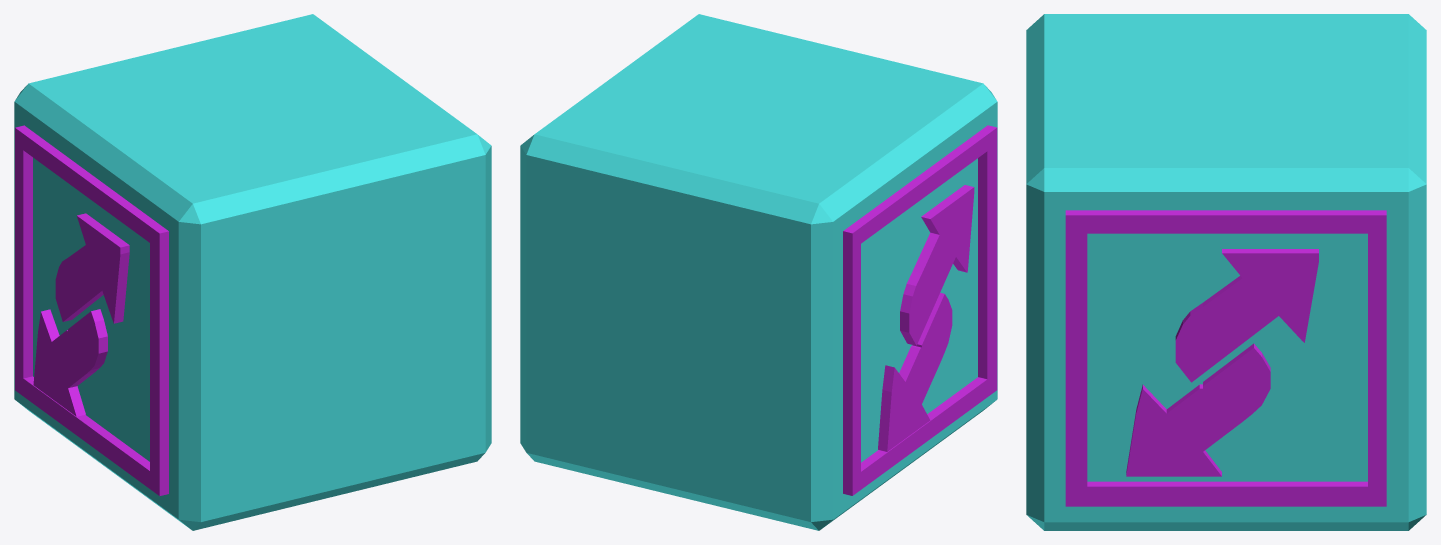
Rendered from teleport_swap.glb.
3 views of the same model, side by side, from view 1: azimuth 30°, elevation 25°; view 2: azimuth 150°, elevation 25°; view 3: azimuth 270°, elevation 25° (orthographic). The views are drawn at different scales.
Visible parts, largest first — view 1: Cube, Plane.001; view 2: Cube, Plane.001; view 3: Cube, Plane.
Boxes of the visible parts, x1=… form: Cube: x1=14, y1=14, x2=491, y2=530; Plane.001: x1=33, y1=213, x2=129, y2=416; Cube: x1=520, y1=14, x2=997, y2=530; Plane.001: x1=878, y1=185, x2=974, y2=451; Cube: x1=1026, y1=14, x2=1426, y2=530; Plane: x1=1126, y1=249, x2=1318, y2=476.
Size of the model in its own units: 2.17 by 2 by 2.
